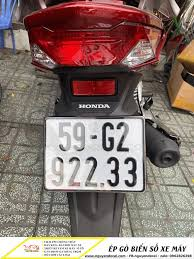Bien-so: (42, 114, 146, 194)
